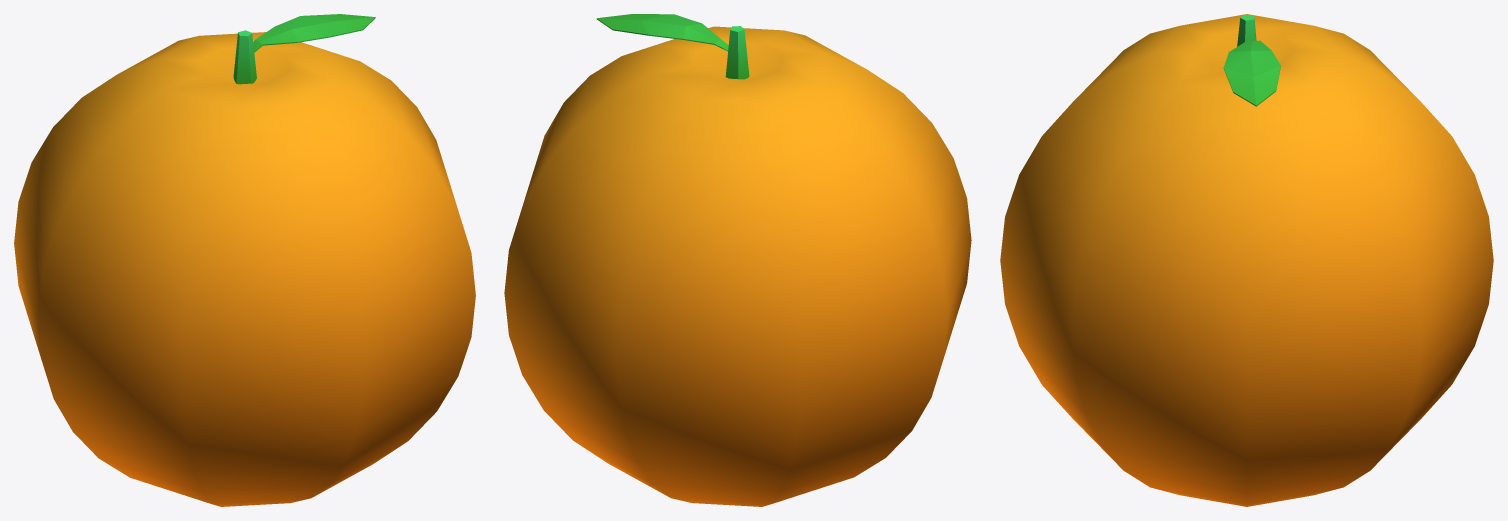
Rendered from orange.fbx.
3 views of the same model, side by side, from view 1: azimuth 30°, elevation 25°; view 2: azimuth 150°, elevation 25°; view 3: azimuth 270°, elevation 25° (orthographic). The views are drawn at different scales.
Visible parts, largest first — view 1: orange; view 2: orange; view 3: orange.
Boxes of the visible parts, x1=… form: orange: x1=14, y1=14, x2=475, y2=506; orange: x1=504, y1=14, x2=971, y2=506; orange: x1=1000, y1=14, x2=1493, y2=506.
Bounding box in the file's own units: 84.57 × 87.43 × 84.57.
